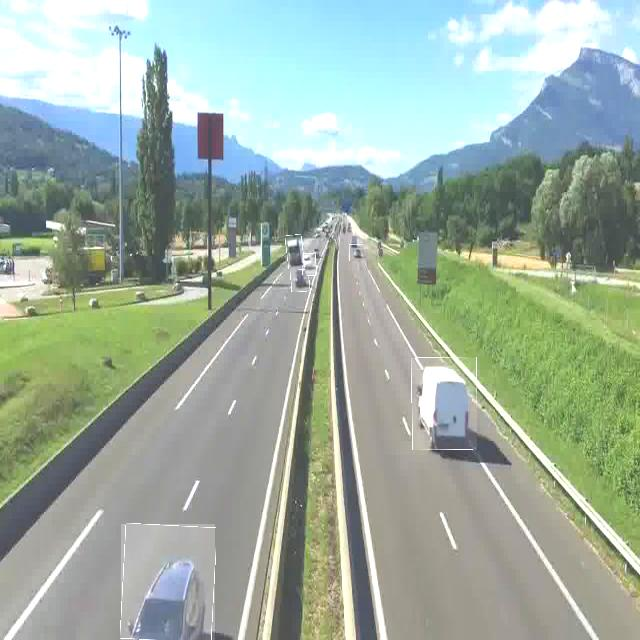Car: (121, 524, 215, 640), (412, 358, 477, 450), (291, 268, 309, 292), (302, 253, 316, 276), (349, 244, 364, 261)
Truck: (286, 235, 304, 270)
